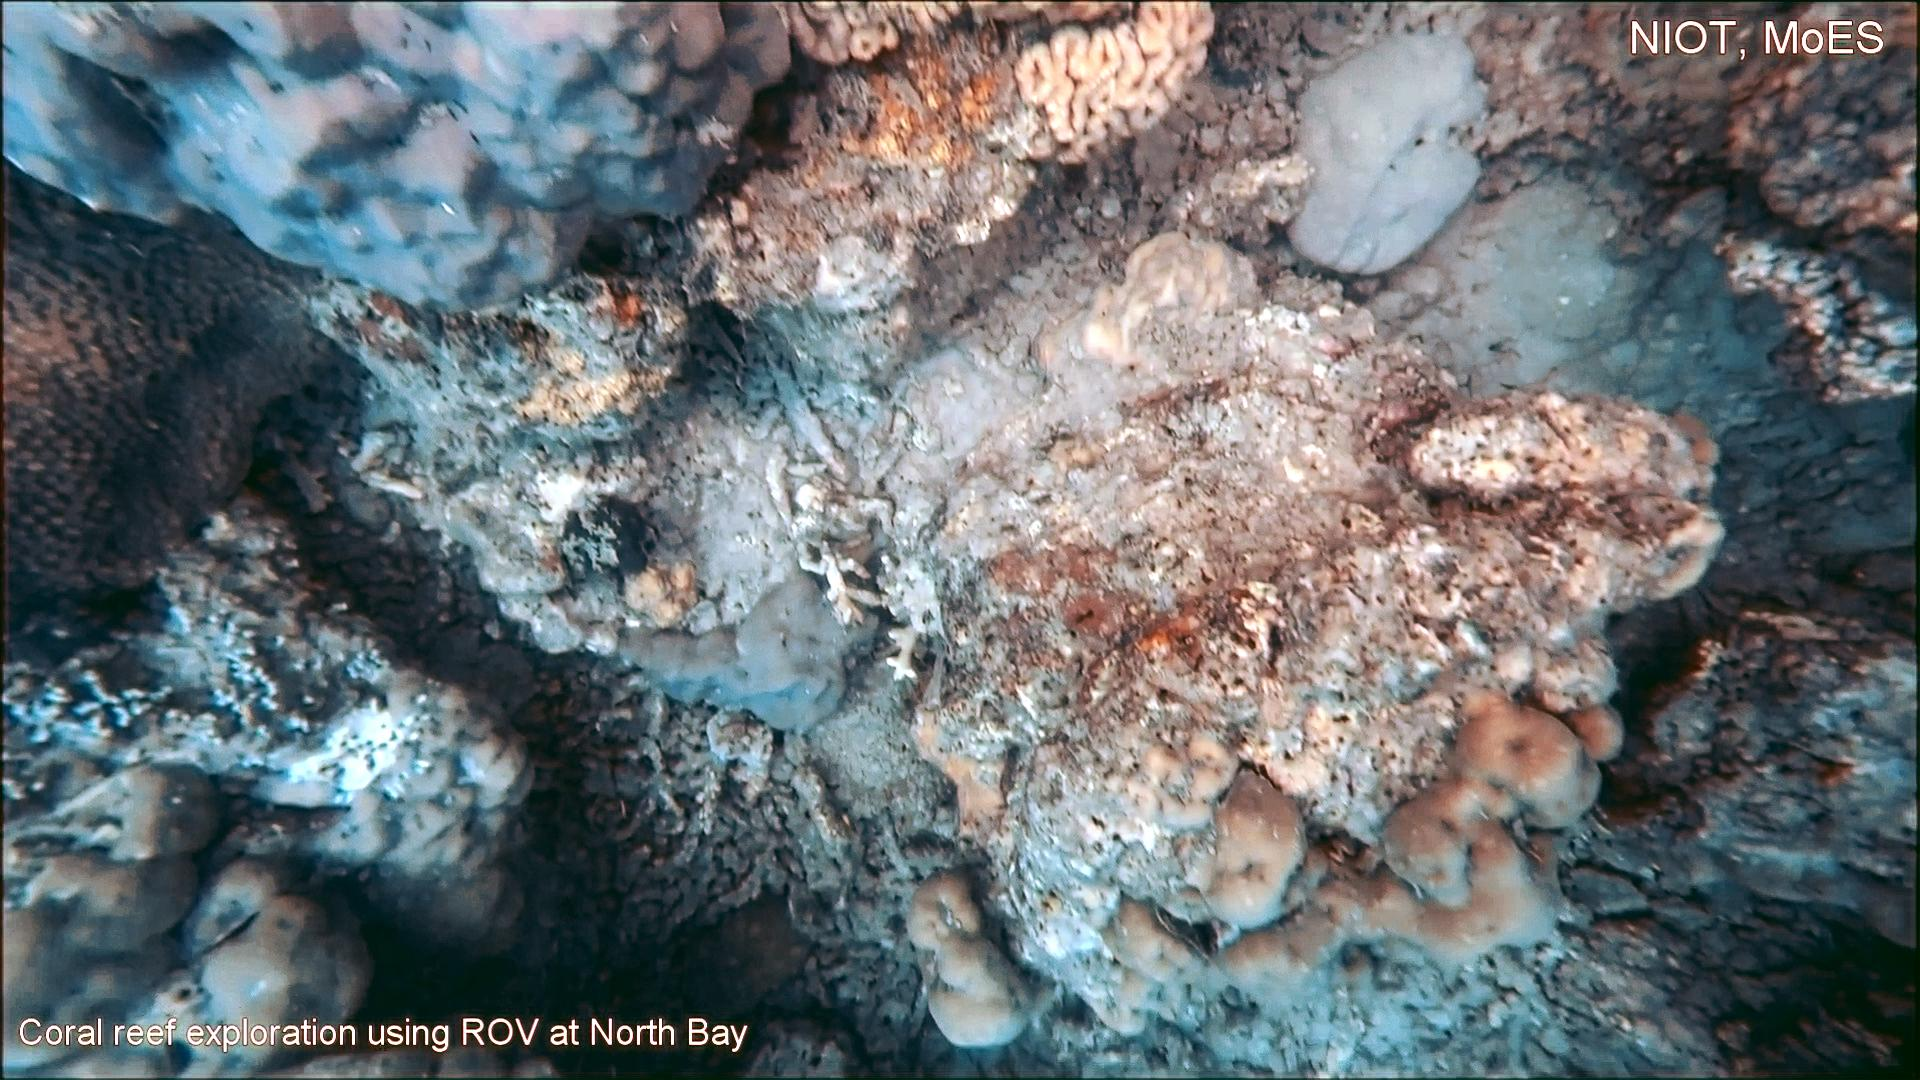Lobophyllia: (770, 0, 1229, 177)
